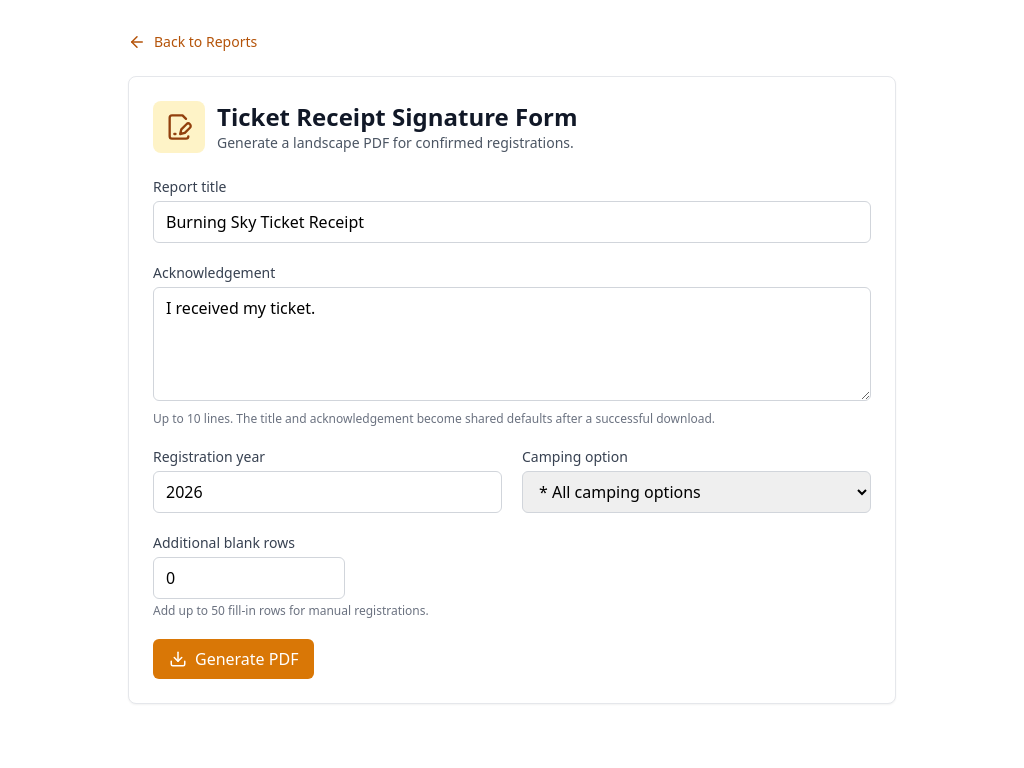
Test case: TicketReceiptReportPage › shouldSurfaceGenerationErrors
Expected: the text box showing "I received my ticket." is shown, [153,287,871,401]
Click the button "Generate PDF". click: (234, 659)
box: [153,639,314,679]
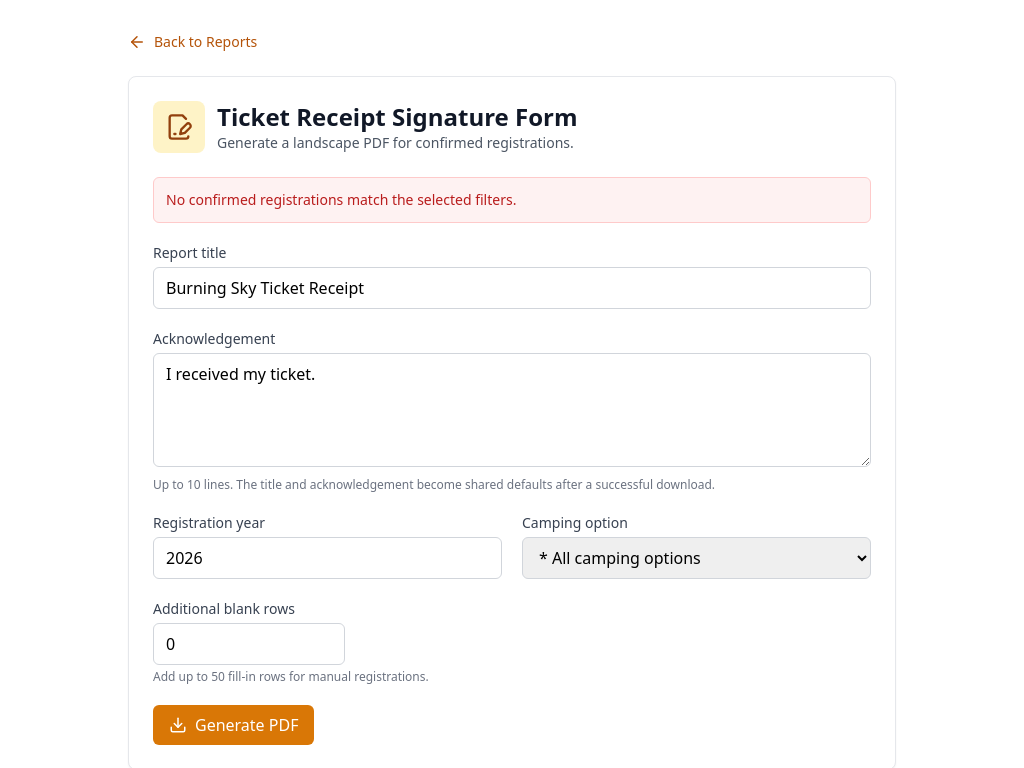
Expected: the text "No confirmed registrations match the selected filters." is shown, [153,177,871,223]
